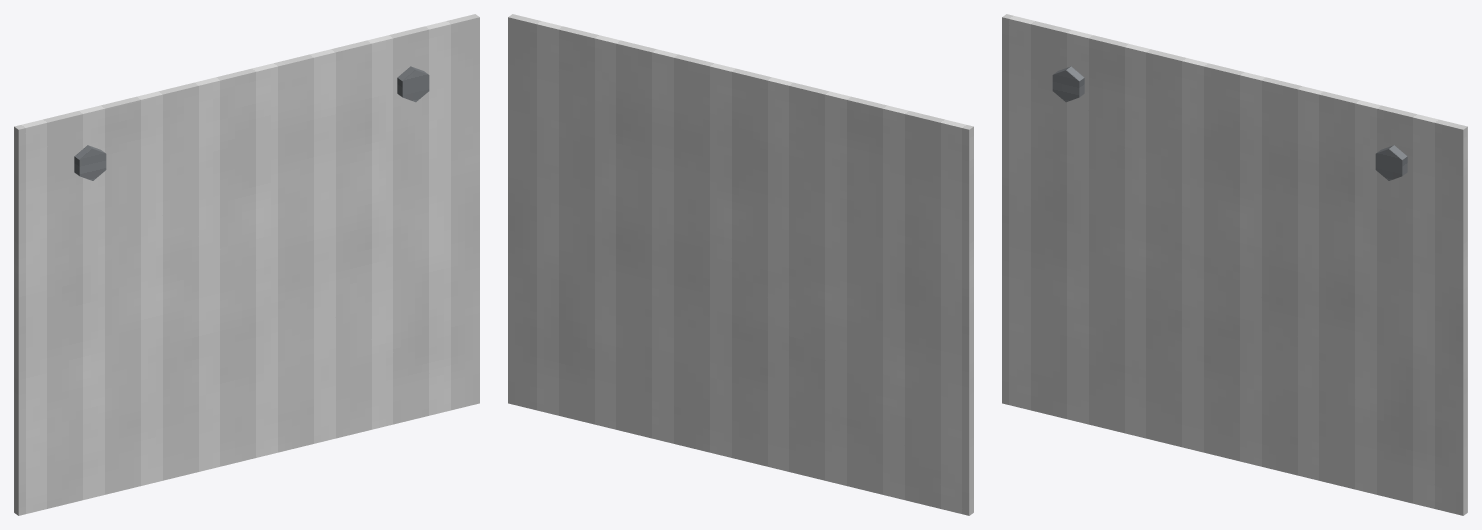
File: para_barro_n1.glb
3 views of the same model, side by side, from view 1: azimuth 30°, elevation 25°; view 2: azimuth 150°, elevation 25°; view 3: azimuth 330°, elevation 25° (orthographic).
Parts seen in each view (by area): view 1: para_barro_n1; view 2: para_barro_n1; view 3: para_barro_n1.
Part boxes in pixels (left/top/right/bottom): para_barro_n1: left=14, top=14, right=479, bottom=515; para_barro_n1: left=508, top=14, right=973, bottom=515; para_barro_n1: left=1002, top=14, right=1467, bottom=515.
Size of the model in its own units: 0.3 by 0.24 by 0.011.
2 materials, 2 textured.
